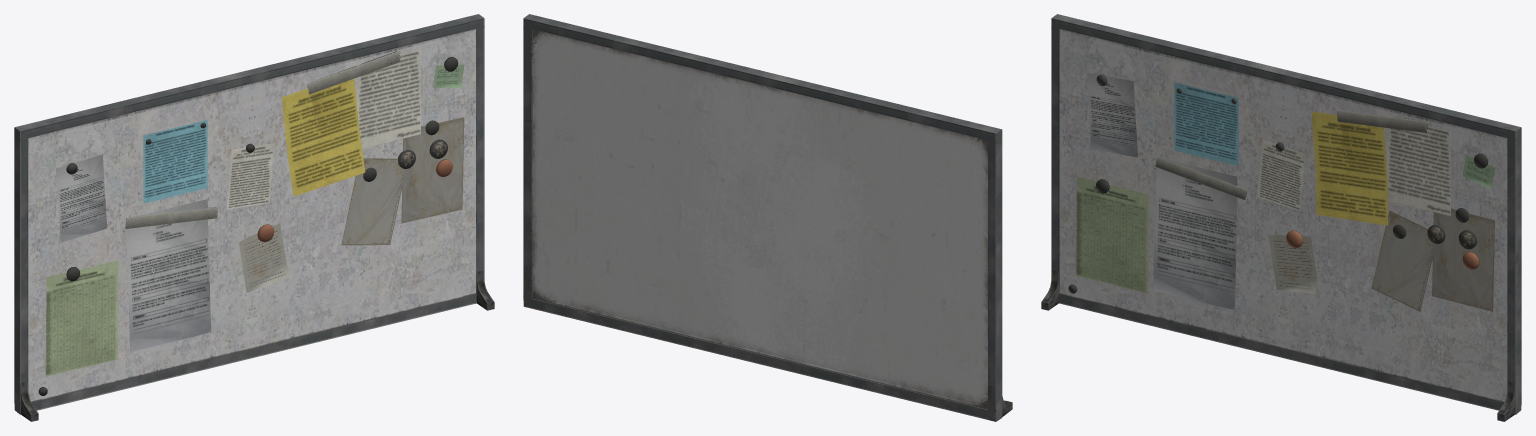
The model's file is sm74_016_chesshints01a.fbx.
The picture shows the model from 3 angles, left to right: view 1: azimuth 30°, elevation 25°; view 2: azimuth 150°, elevation 25°; view 3: azimuth 330°, elevation 25°; orthographic projection.
Parts seen in each view (by area): view 1: LOD_1_Group_0_Sub_1__sm30_136_CorkBoard02A_A_Mat, LOD_1_Group_0_Sub_4__sm36_049_Paper01A_A_Mat, LOD_1_Group_0_Sub_2__sm30_061_WhiteBoard02A_A_Mat, LOD_1_Group_0_Sub_6__sm74_011_Report01A_A_Mat__Env_default, LOD_1_Group_0_Sub_5__sm36_011_Document01A_A_Mat, LOD_1_Group_0_Sub_3__sm36_012_PaperMagnet01A_A_Mat; view 2: LOD_1_Group_0_Sub_2__sm30_061_WhiteBoard02A_A_Mat; view 3: LOD_1_Group_0_Sub_1__sm30_136_CorkBoard02A_A_Mat, LOD_1_Group_0_Sub_4__sm36_049_Paper01A_A_Mat, LOD_1_Group_0_Sub_2__sm30_061_WhiteBoard02A_A_Mat, LOD_1_Group_0_Sub_6__sm74_011_Report01A_A_Mat__Env_default, LOD_1_Group_0_Sub_5__sm36_011_Document01A_A_Mat, LOD_1_Group_0_Sub_3__sm36_012_PaperMagnet01A_A_Mat.
Boxes of the visible parts, bbox=[...] form: LOD_1_Group_0_Sub_1__sm30_136_CorkBoard02A_A_Mat: bbox=[28, 29, 475, 401]; LOD_1_Group_0_Sub_4__sm36_049_Paper01A_A_Mat: bbox=[45, 49, 420, 376]; LOD_1_Group_0_Sub_2__sm30_061_WhiteBoard02A_A_Mat: bbox=[14, 14, 494, 421]; LOD_1_Group_0_Sub_6__sm74_011_Report01A_A_Mat__Env_default: bbox=[56, 154, 211, 351]; LOD_1_Group_0_Sub_5__sm36_011_Document01A_A_Mat: bbox=[341, 117, 464, 245]; LOD_1_Group_0_Sub_3__sm36_012_PaperMagnet01A_A_Mat: bbox=[38, 51, 464, 395]; LOD_1_Group_0_Sub_2__sm30_061_WhiteBoard02A_A_Mat: bbox=[523, 14, 1012, 421]; LOD_1_Group_0_Sub_1__sm30_136_CorkBoard02A_A_Mat: bbox=[1059, 29, 1507, 401]; LOD_1_Group_0_Sub_4__sm36_049_Paper01A_A_Mat: bbox=[1076, 82, 1450, 293]; LOD_1_Group_0_Sub_2__sm30_061_WhiteBoard02A_A_Mat: bbox=[1041, 14, 1521, 421]; LOD_1_Group_0_Sub_6__sm74_011_Report01A_A_Mat__Env_default: bbox=[1087, 73, 1237, 309]; LOD_1_Group_0_Sub_5__sm36_011_Document01A_A_Mat: bbox=[1371, 209, 1494, 311]; LOD_1_Group_0_Sub_3__sm36_012_PaperMagnet01A_A_Mat: bbox=[1068, 74, 1495, 293].
Bounding box in the file's own units: 1.7 × 0.9899 × 0.1044.
